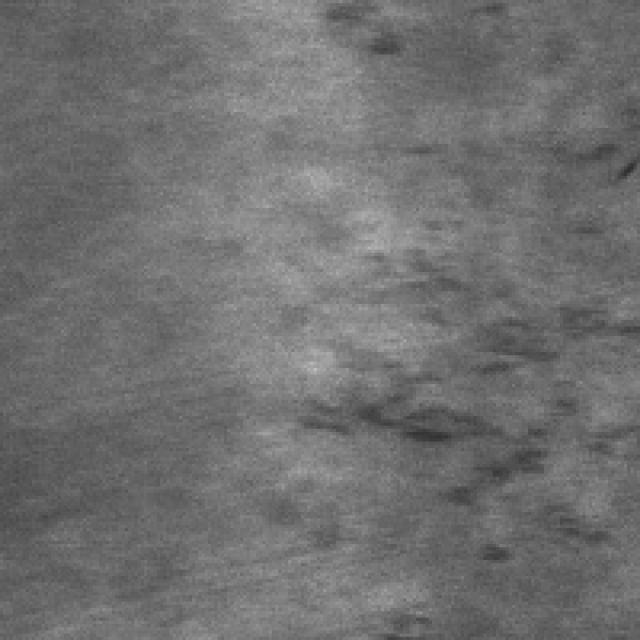rolled-in_scale: (294, 237, 637, 560), (319, 0, 422, 54)
